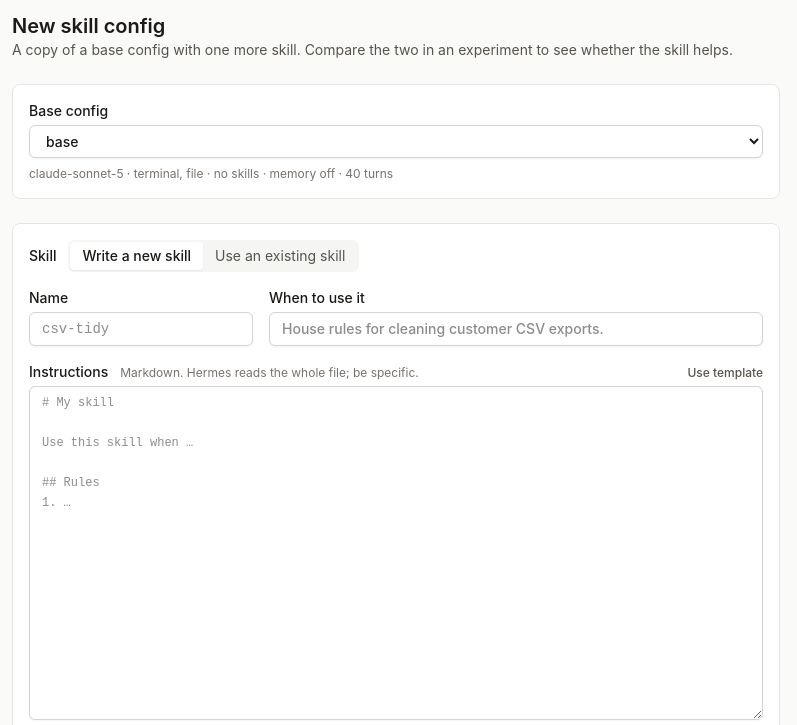
it: NewSkillConfig › offers existing skills with a preview and shows a server conflict
Step 1. Click the radio button labelled "Use an existing skill" → (280, 256), box [203,242,357,270]
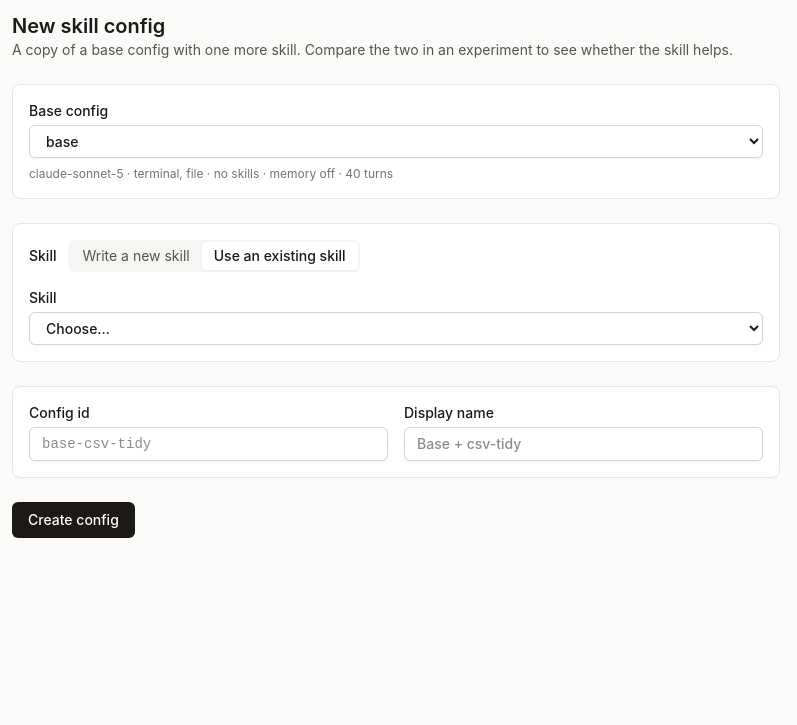
Step 2. Select "changelog-format" in the dropdown named "existingSkill" → (396, 328), box [29,312,763,345]
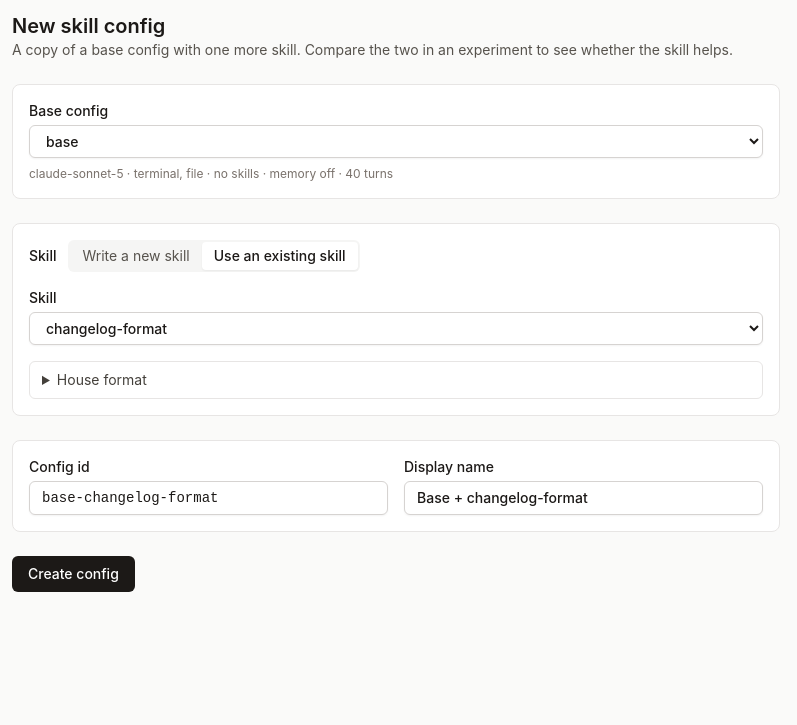
Expected: the text "House format" is shown, [57,371,147,388]
Step 3. Submit the form
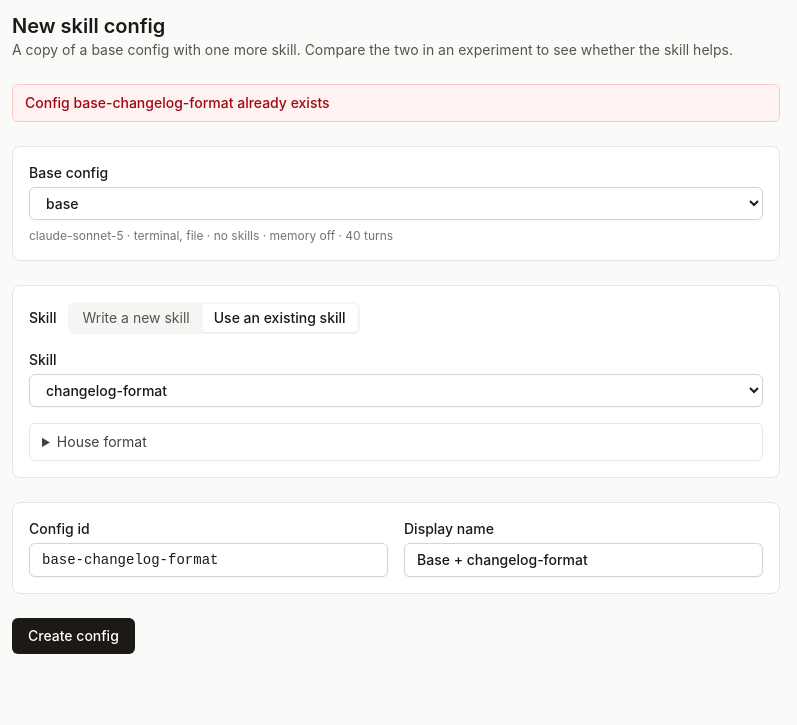
Expected: the text "Config base-changelog-format already exists" is shown, [25,94,330,111]
